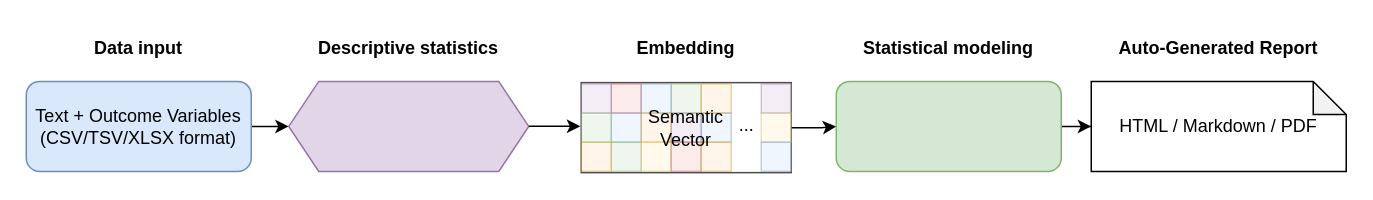
The diagram is 1373 pixels wide and 200 high, and some of its shapes have lost their labels. Here are the shapes that lost their labels. From the top down, the centre of each, then its label:
the point at 408,125: Text measures (length, diversity, frequency)
the point at 948,125: Modeling and Prediction (CV, inference, CI)
